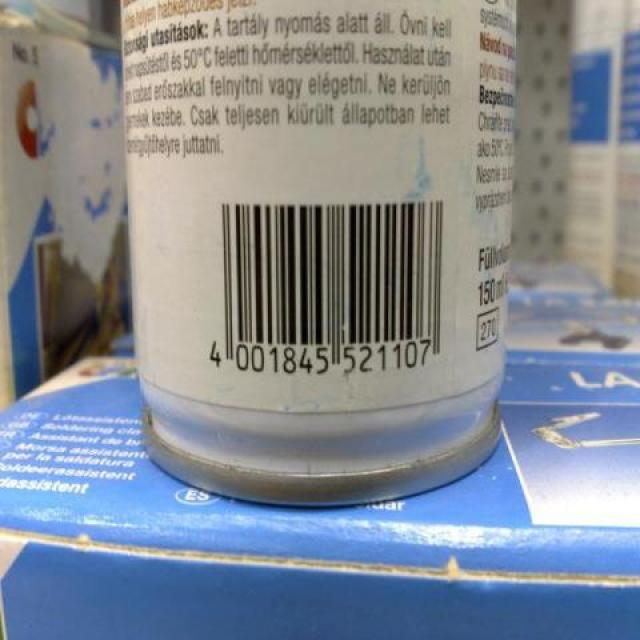Barcode: (202, 185, 451, 384)
